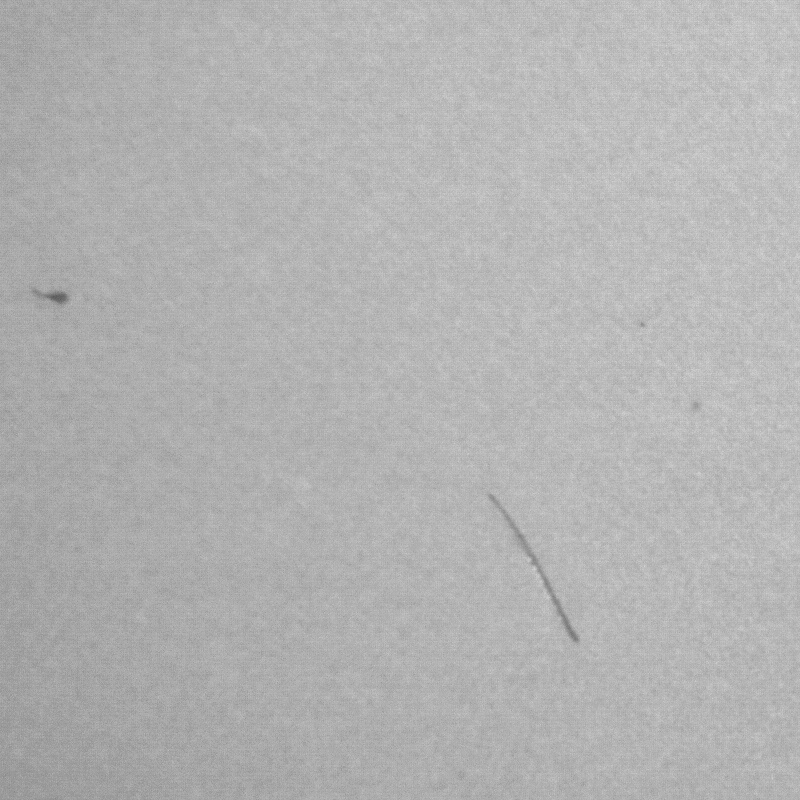defect: (484, 490, 590, 652), (26, 286, 80, 305), (683, 398, 704, 418)
